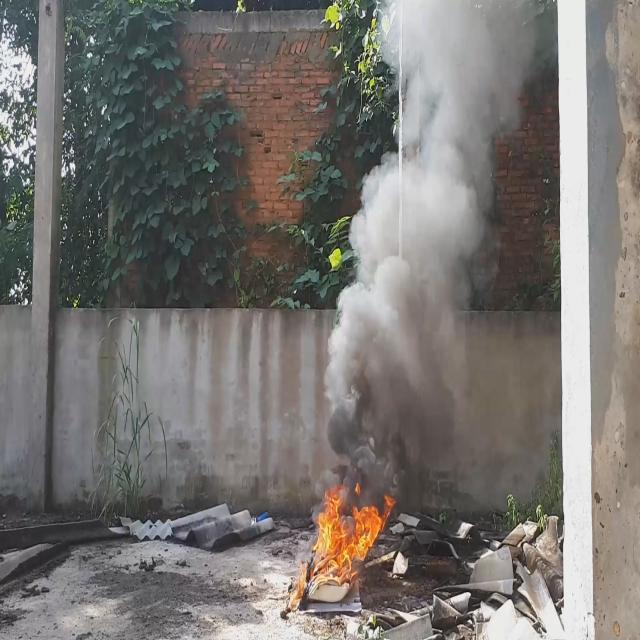Fire: (311, 488, 394, 576)
Smoke: (325, 0, 544, 523)
